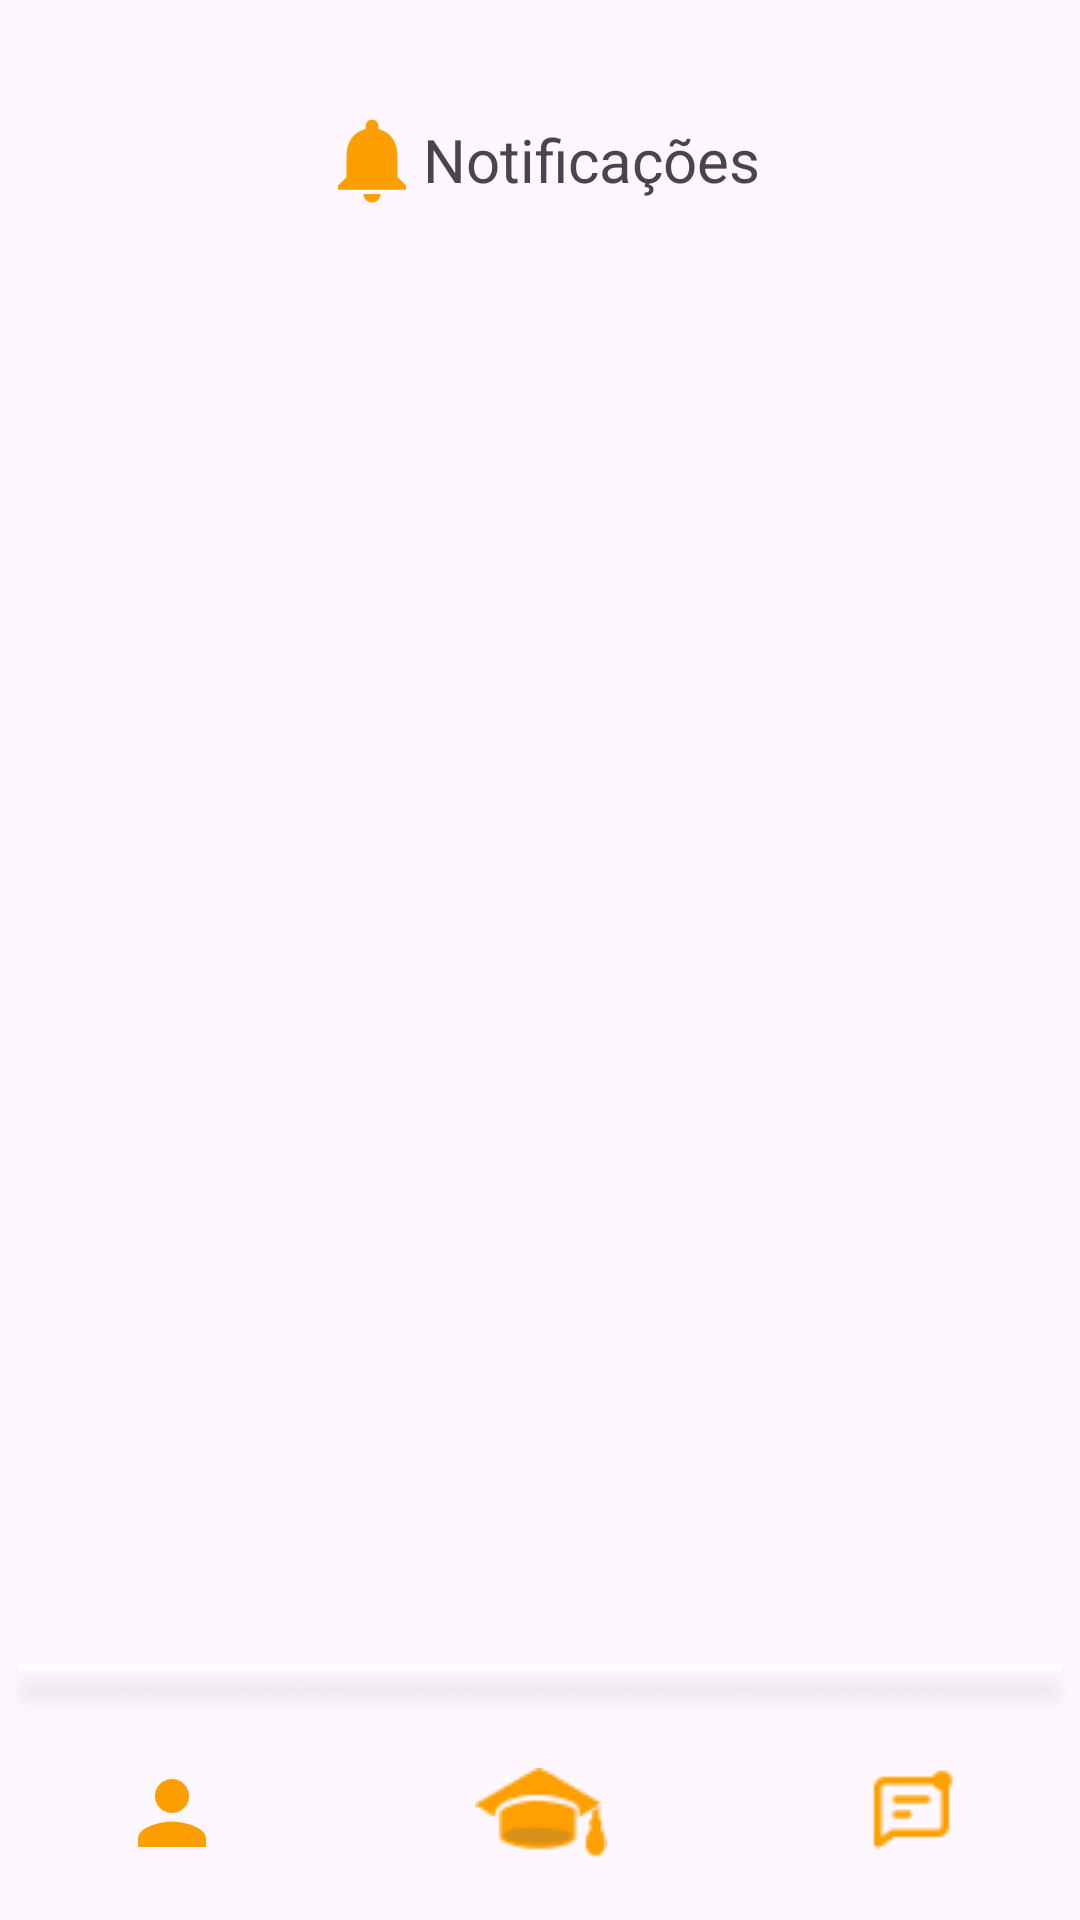

Icons on this 1080x1920 Android screen, each with the point to tap as (x,y):
notifications: (372,161)
person: (172,1813)
